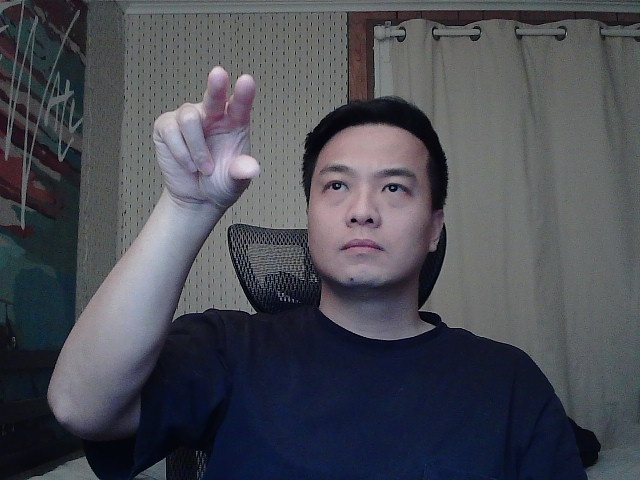No: (142, 56, 280, 211)
